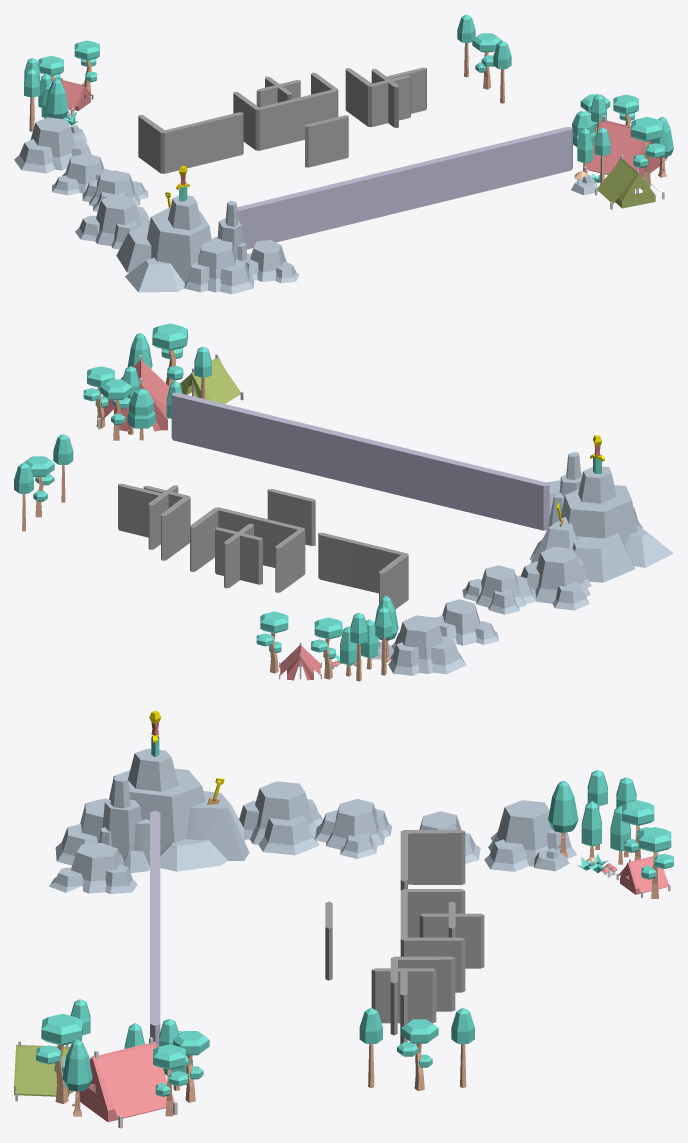
Rendered from map1.fbx.
3 renders of one model, top to bottom at view 1: azimuth 30°, elevation 25°; view 2: azimuth 150°, elevation 25°; view 3: azimuth 270°, elevation 25°, orthographic. The views are drawn at different scales.
Visible parts, largest first — view 1: wall (×3), hilt_long_wide, stone_smallTopB1, rocksTall (×3), Wall_C1, Wall_C, Wall_C2, mushroom_redGroup, wall1, tree_simple (×3), tree_plateau, tree_cone; view 2: wall (×3), hilt_long_wide, stone_smallTopB1, rocksTall (×3), Wall_C, Wall_C1, mushroom_redGroup, tree_simple (×3), Wall_C2, wall1, tree_plateau, tree_small; view 3: hilt_long_wide, stone_smallTopB1, wall (×3), rocksTall (×3), mushroom_redGroup, Wall_C, Wall_C1, tree_simple (×3), Wall_C2, tree_plateau, tree_cone, tree_small (+1 smaller).
Part boxes in pixels (x1,y1,x2,y2): wall (×3): (237,67,572,249); hilt_long_wide: (75,165,299,294); stone_smallTopB1: (571,94,673,209); rocksTall (×3): (14,117,148,211); Wall_C1: (138,112,243,173); Wall_C: (233,72,338,150); Wall_C2: (345,68,410,127); mushroom_redGroup: (24,40,99,120); wall1: (305,115,348,167); tree_simple (×3): (24,14,511,131); tree_plateau: (472,33,501,89); tree_cone: (45,79,68,118); wall (×3): (118,392,549,588); hilt_long_wide: (520,435,673,610); stone_smallTopB1: (83,323,243,440); rocksTall (×3): (388,565,536,675); Wall_C: (190,507,305,592); Wall_C1: (318,532,408,609); mushroom_redGroup: (256,611,367,681); tree_simple (×3): (14,434,392,675); Wall_C2: (143,486,190,560); wall1: (267,489,315,545); tree_plateau: (23,456,54,517); tree_small: (360,619,378,669); hilt_long_wide: (49,710,323,894); stone_smallTopB1: (14,999,209,1128); wall (×3): (150,810,484,1047); rocksTall (×3): (314,799,576,871); mushroom_redGroup: (587,777,673,898); Wall_C: (400,889,465,992); Wall_C1: (400,830,465,890); tree_simple (×3): (359,770,607,1088); Wall_C2: (390,956,455,1035); tree_plateau: (397,1019,438,1091); tree_cone: (548,780,578,857); tree_small: (581,801,601,857).
Size of the model in its own units: 13561 by 2517 by 11497.
